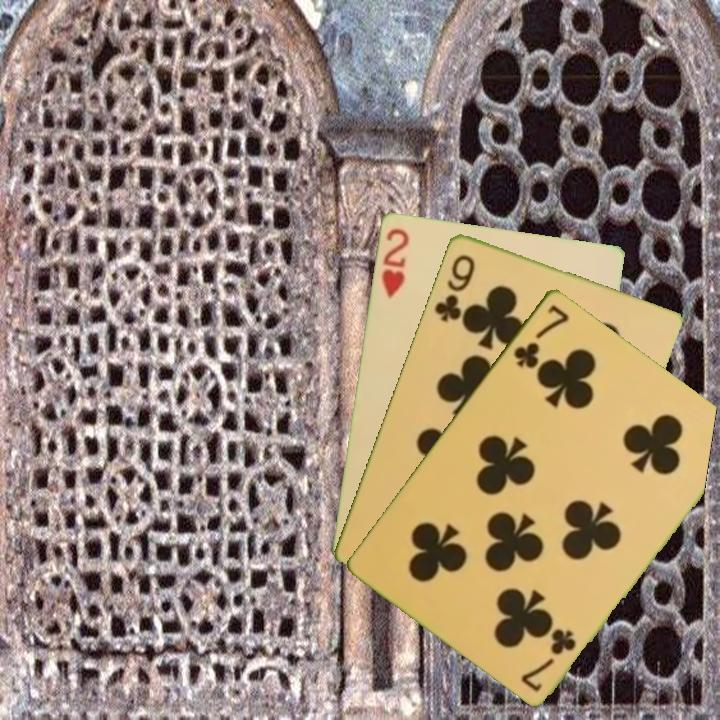2h: (377, 224, 412, 301)
7c: (509, 300, 572, 372), (519, 625, 579, 694)
9c: (430, 250, 478, 325)
